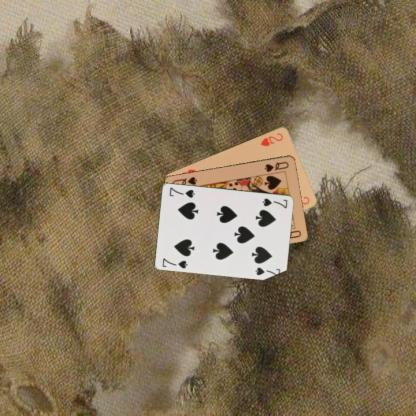2h: (258, 130, 284, 147)
7s: (260, 196, 289, 210), (160, 256, 189, 270)
Qs: (262, 159, 290, 173)
